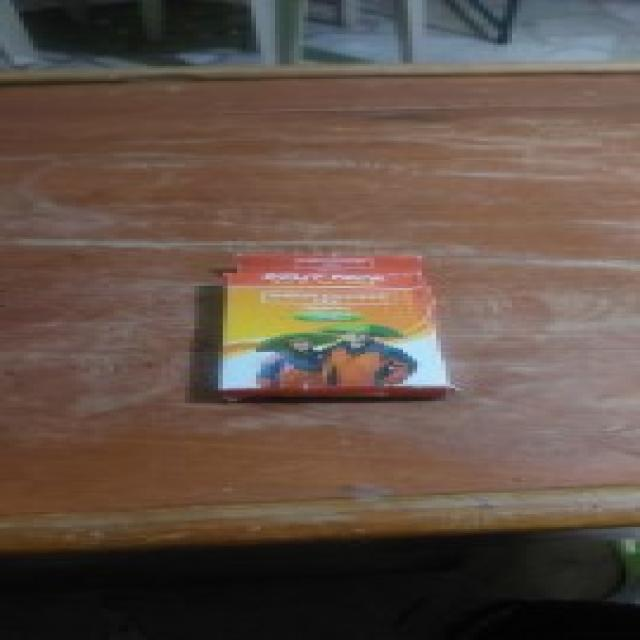Cacat: (212, 248, 455, 395)
